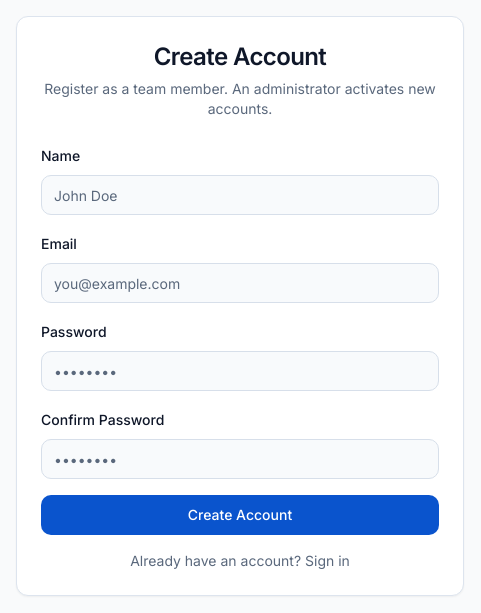
Test: authentication pages › submits registration without confirmation data and shows the approval state
Type "Asha Perera" into the field labelled "Name". click: (240, 195)
box: 41,175 -> 439,215
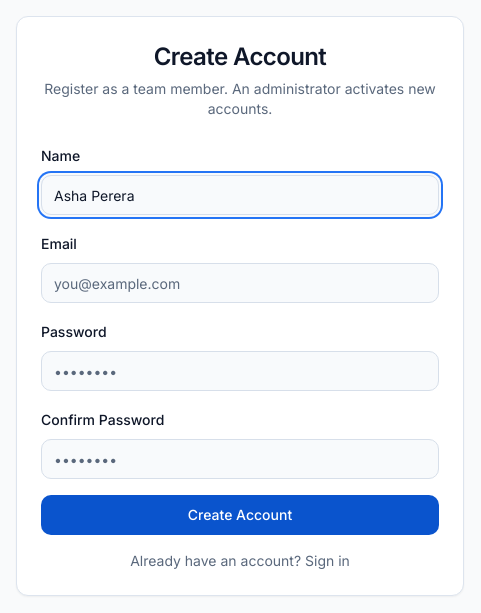
Type "asha@example.com" into the field labelled "Email". click: (240, 283)
box: 41,263 -> 439,303
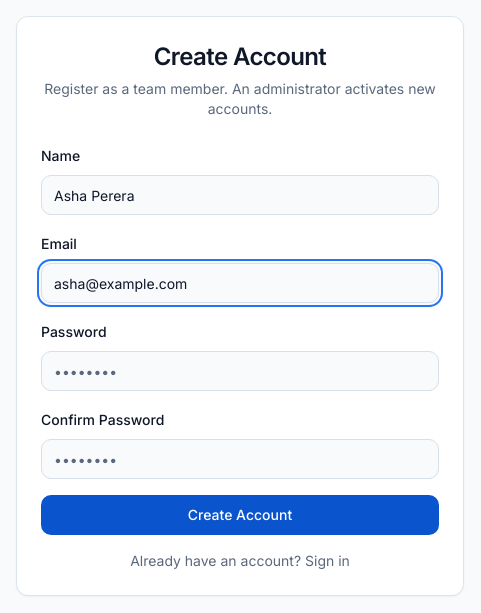
Type "password123" into the password field labelled "Password". click: (240, 371)
box: 41,351 -> 439,391
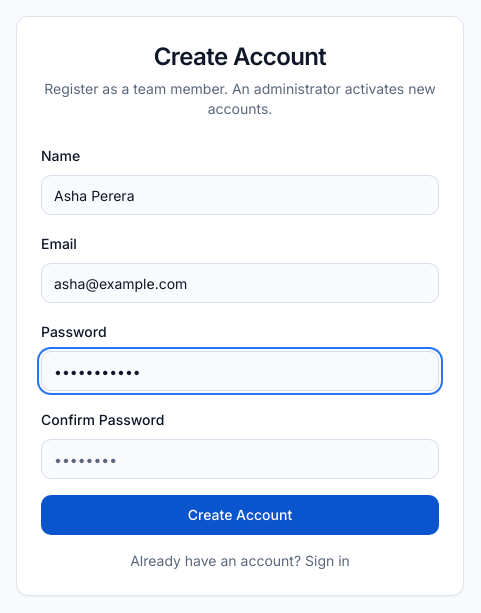
Type "password123" into the password field labelled "Confirm Password". click: (240, 459)
box: 41,439 -> 439,479
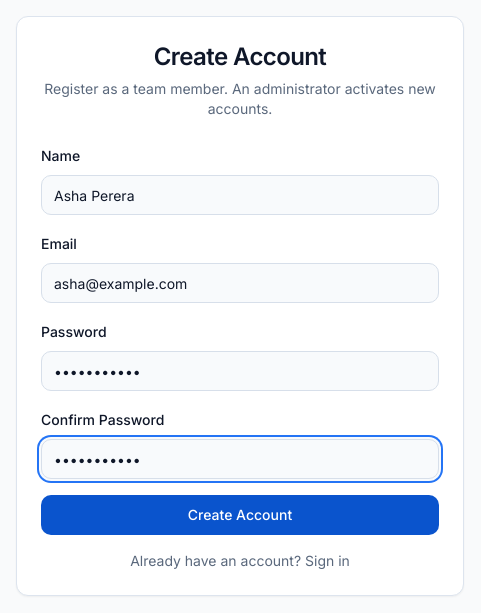
Click the button "Create Account". click: (240, 515)
box: 41,495 -> 439,535
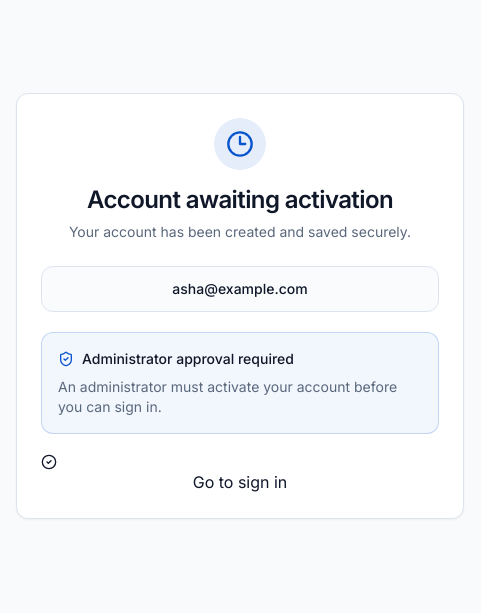
Check: the heading "Account awaiting activation" is shown, box 87,184 -> 393,216
Check: the text "asha@example.com" is shown, box 41,266 -> 439,312
